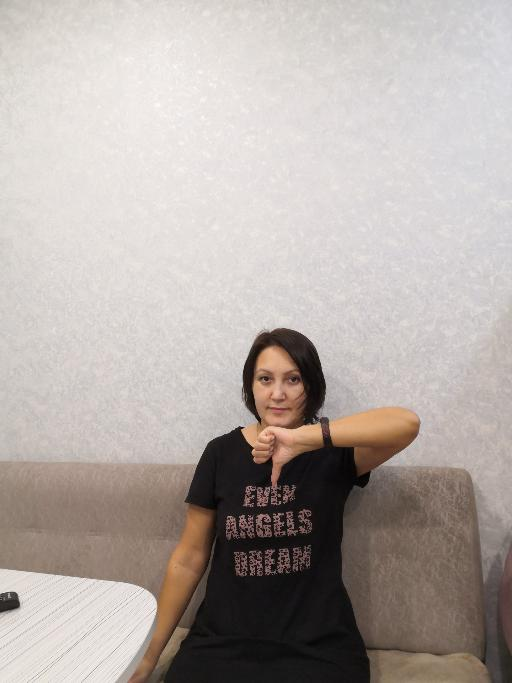dislike: (250, 424, 295, 489)
